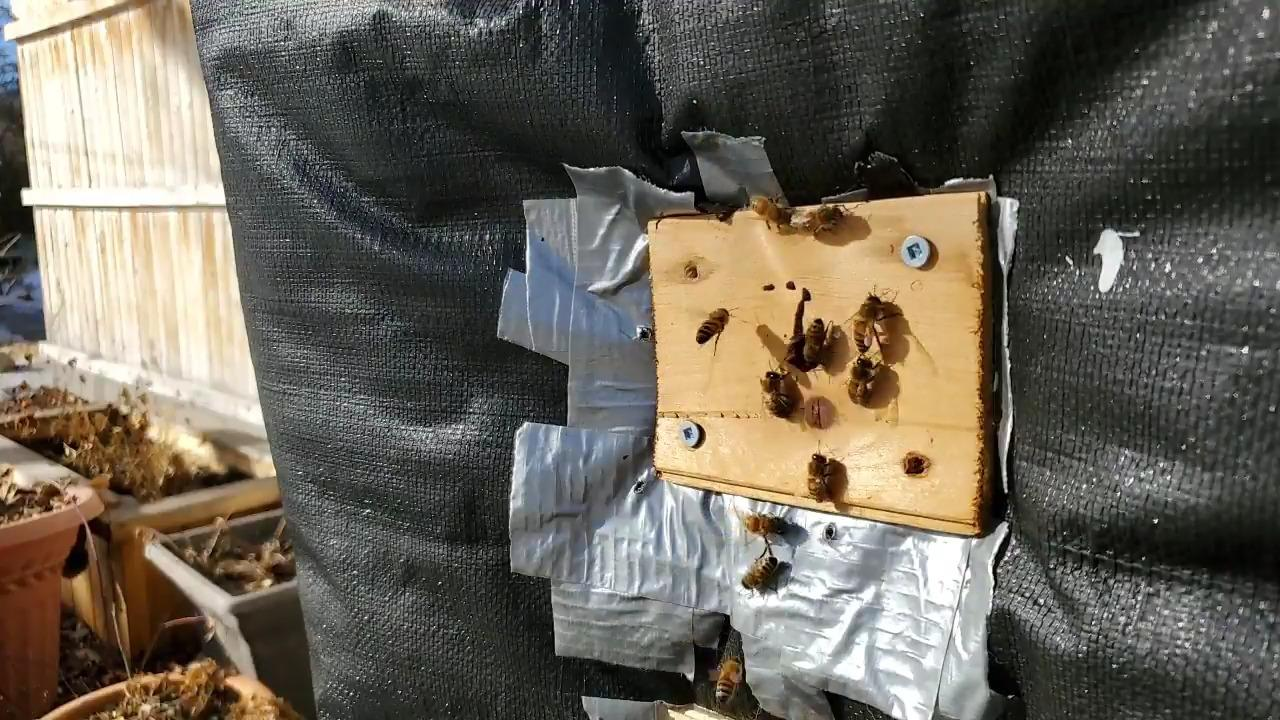bee: (853, 296, 881, 352), (740, 555, 778, 590), (695, 308, 729, 345), (751, 197, 793, 225), (762, 371, 788, 416), (716, 659, 743, 702), (849, 357, 873, 403), (801, 206, 842, 231), (805, 318, 825, 361), (808, 454, 826, 501), (745, 515, 784, 535)
